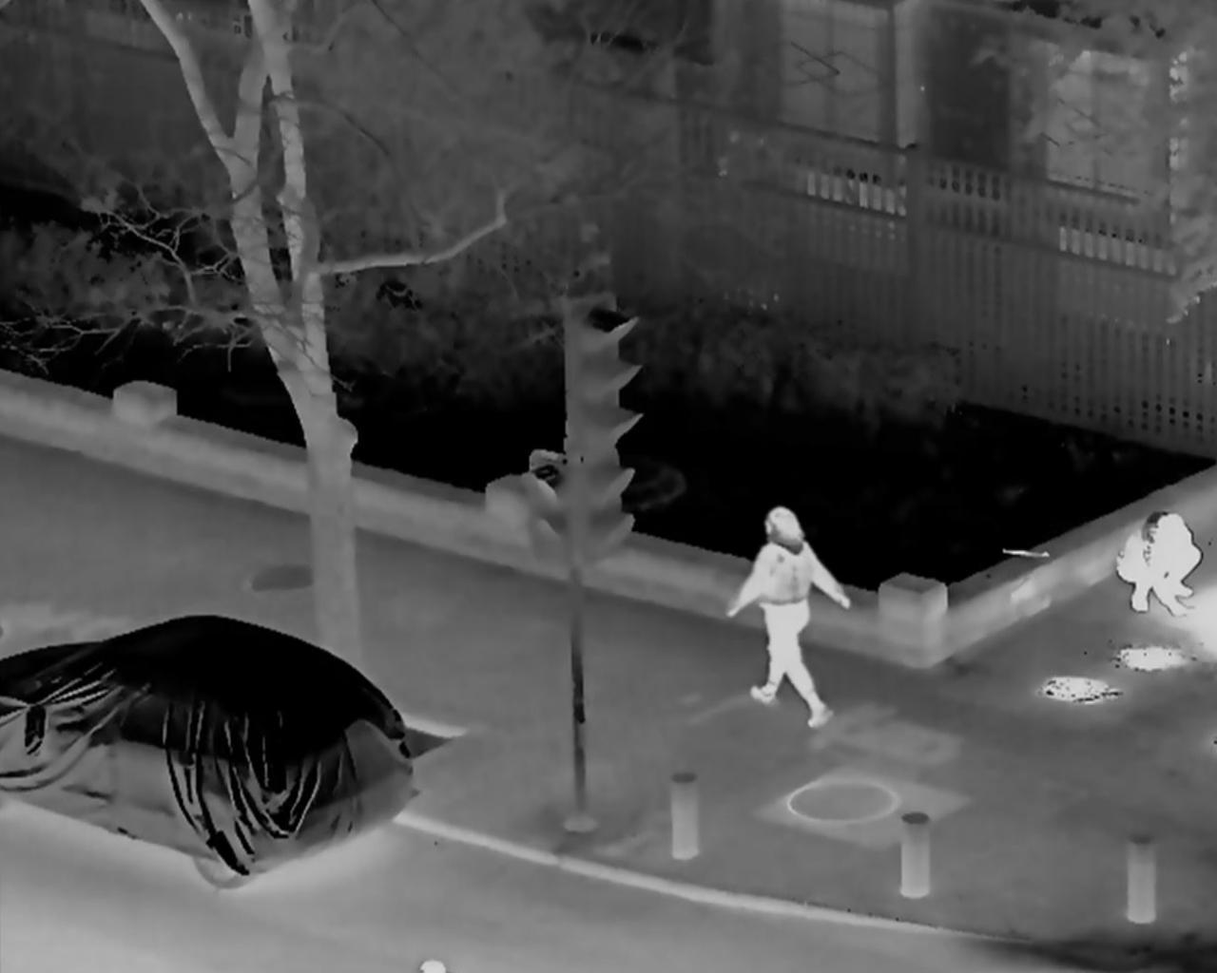person: (721, 509, 854, 724), (1113, 512, 1203, 622)
